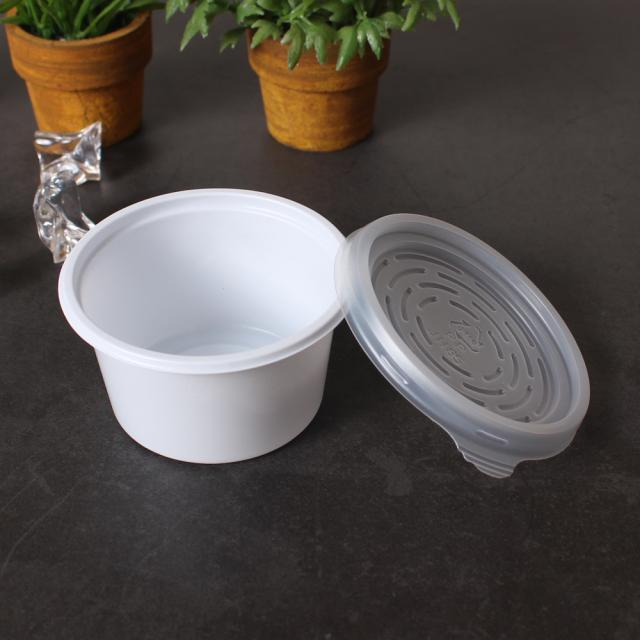bottle: (38, 168, 372, 470)
